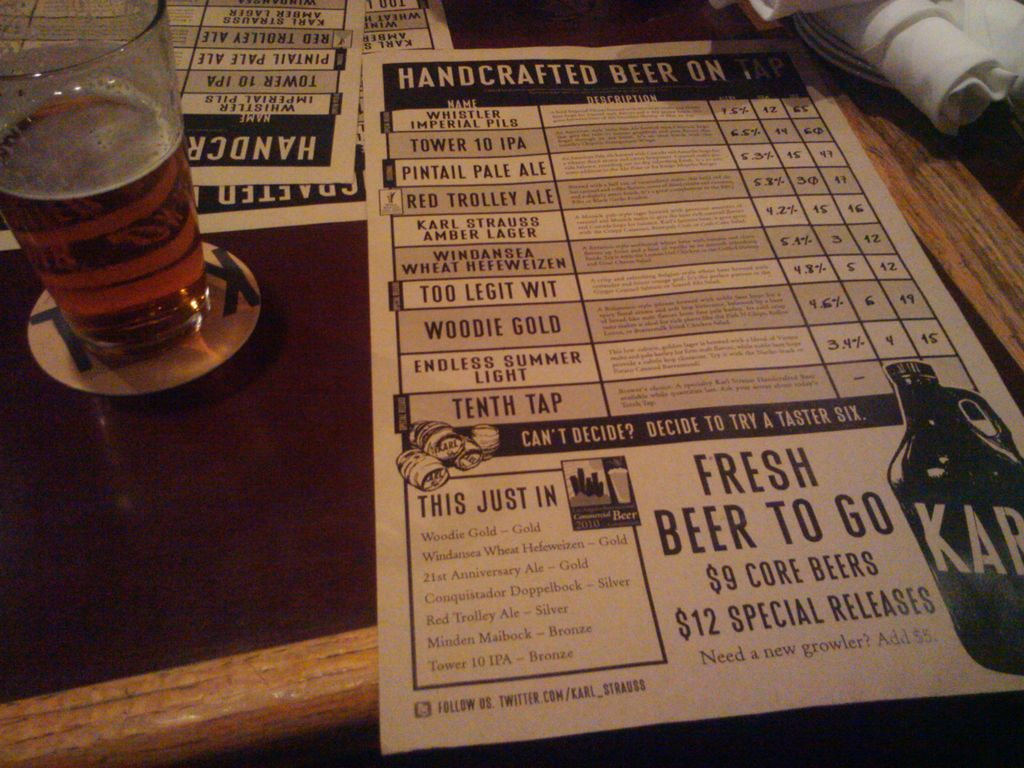Beer: (0, 81, 210, 362)
